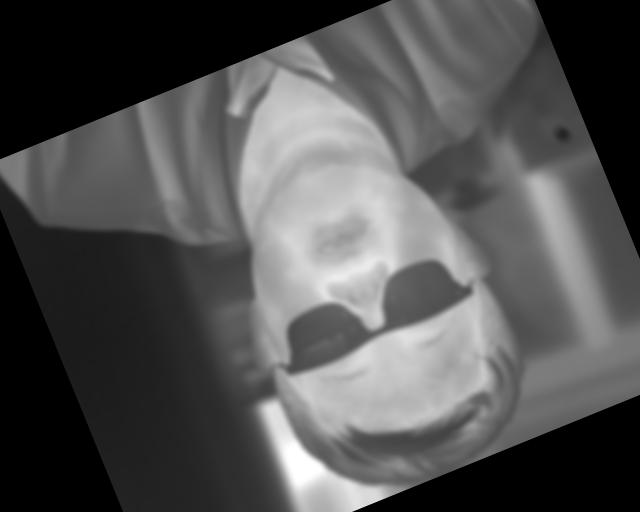face: (379, 261, 466, 372), (305, 327, 372, 413)
